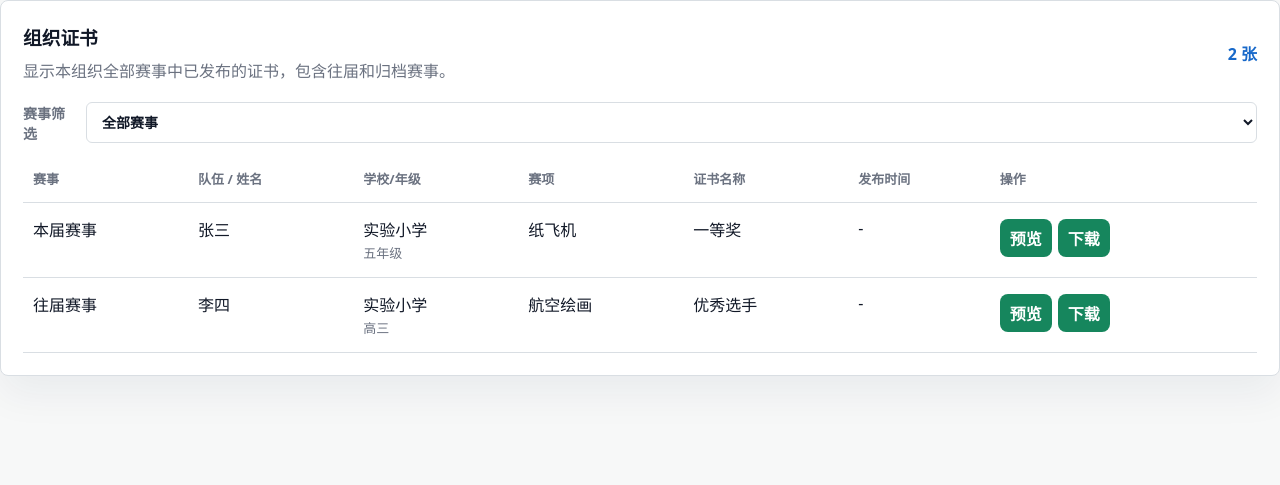
Test case: OrganizationCertificatesPage › closes an unsafe popup whose opener assignment silently fails without fetching or registering it
Click the button "预览" in the row of "本届赛事" at point(1026, 238), box [1000, 219, 1052, 257]
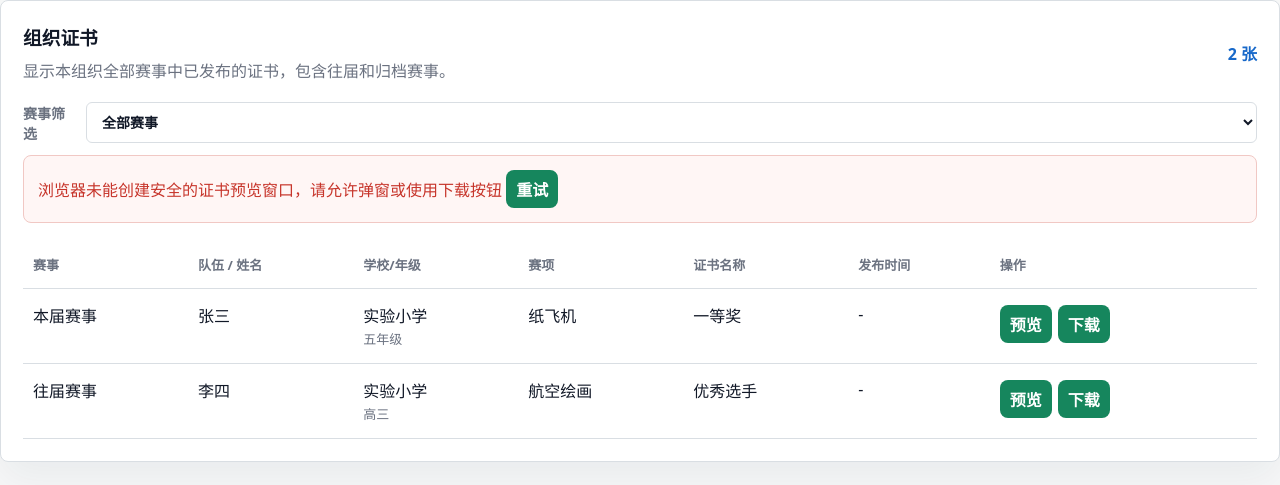
Now the message "浏览器未能创建安全的证书预览窗口，请允许弹窗或使用下载按钮 重试" is shown, box [23, 155, 1257, 223]
